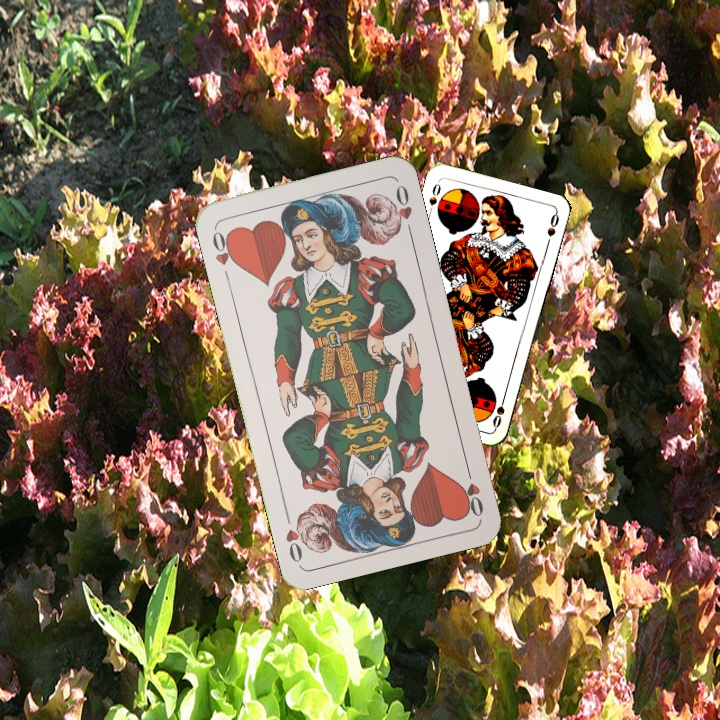HO: (208, 225, 239, 283), (458, 461, 486, 520)
SO: (489, 391, 508, 431), (424, 177, 443, 217)
